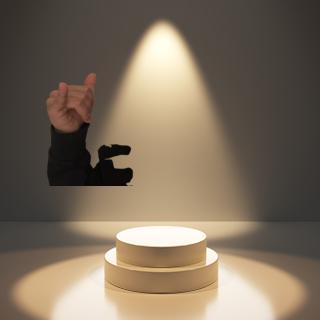HAVE: (41, 68, 99, 139)
